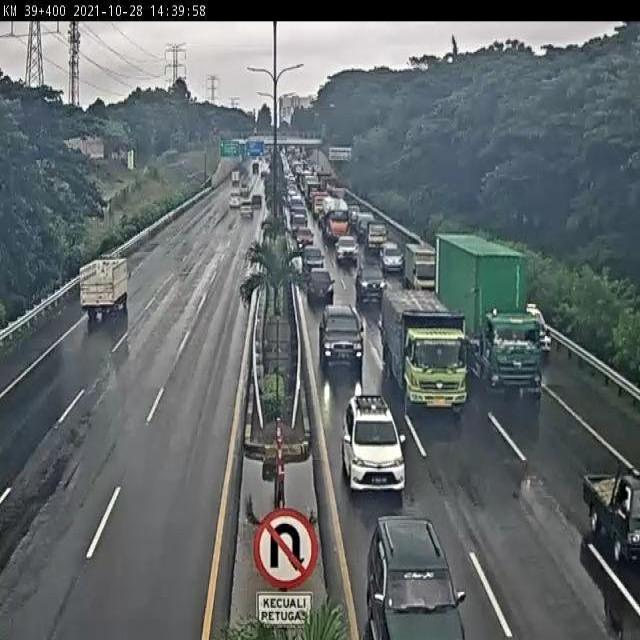big truck: (436, 234, 541, 394), (382, 286, 466, 406)
car: (363, 522, 464, 640), (342, 394, 408, 489), (318, 304, 363, 367), (355, 264, 388, 297), (306, 269, 335, 304), (363, 218, 388, 250), (335, 233, 359, 259), (378, 241, 400, 268), (301, 243, 323, 269)
mid truck: (79, 256, 133, 317)
small truck: (405, 247, 438, 289)
